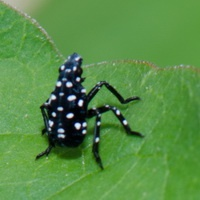insect: (36, 53, 143, 169), (36, 53, 142, 168)
